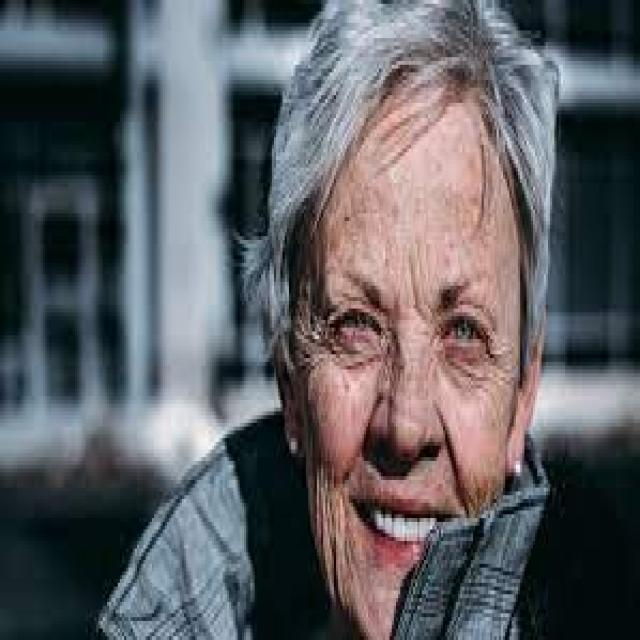Wrinkles: (311, 411, 353, 605), (454, 333, 517, 413), (296, 234, 327, 389)
